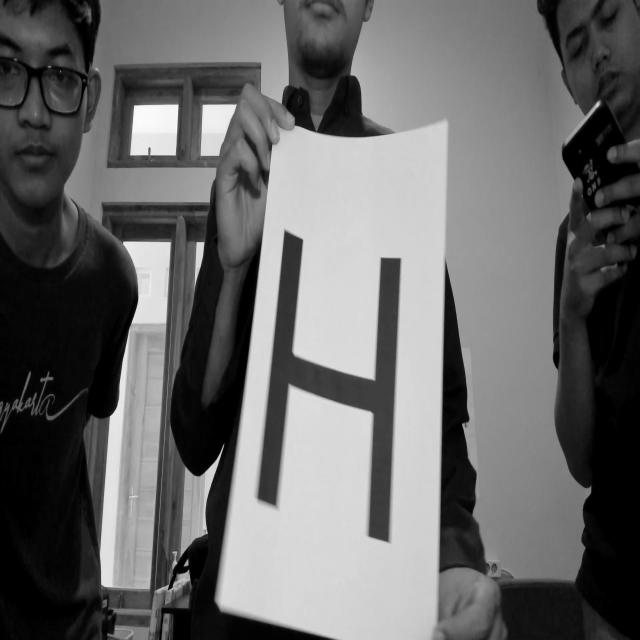h: (245, 215, 413, 573)
